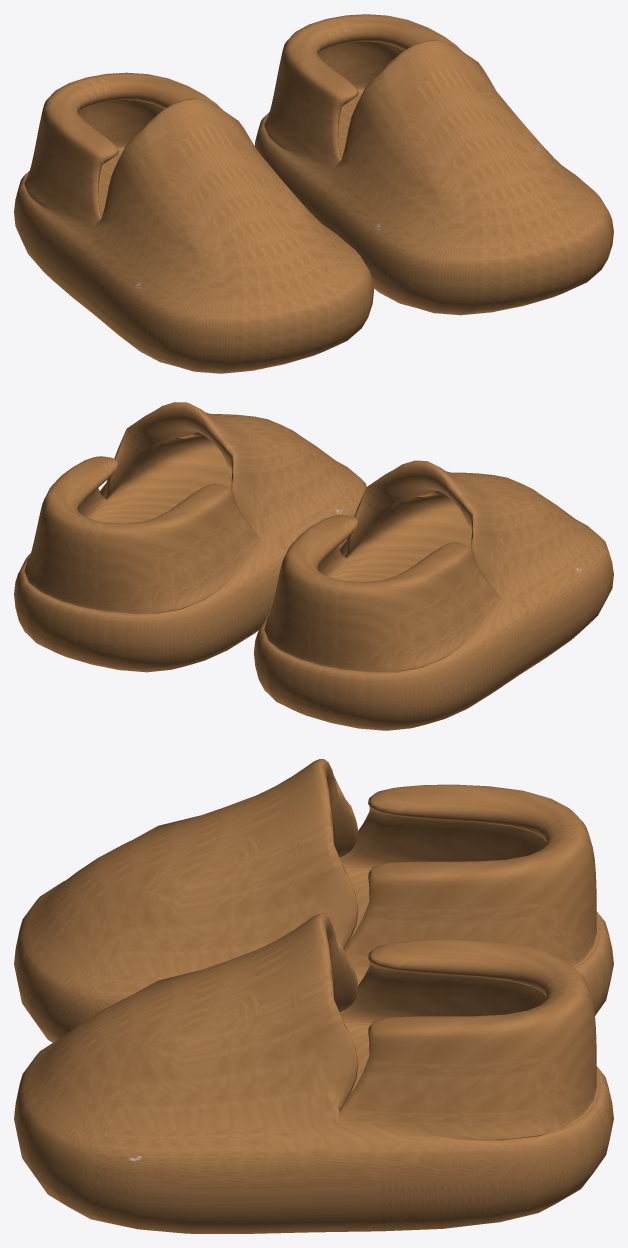
Rendered from Moccasins.glb.
The picture shows the model from 3 angles, top to bottom: view 1: azimuth 30°, elevation 25°; view 2: azimuth 150°, elevation 25°; view 3: azimuth 270°, elevation 25°; orthographic projection. The views are drawn at different scales.
Parts seen in each view (by area): view 1: pCube1, pCube2; view 2: pCube1, pCube2; view 3: pCube2, pCube1.
Boxes of the visible parts, bbox=[...] form: pCube1: bbox=[14, 72, 373, 373]; pCube2: bbox=[254, 14, 613, 315]; pCube1: bbox=[254, 460, 613, 730]; pCube2: bbox=[14, 402, 366, 672]; pCube2: bbox=[14, 913, 613, 1233]; pCube1: bbox=[14, 759, 613, 1042].
Size of the model in its own units: 1.38 by 0.5838 by 1.17.
1 material, 1 textured.
